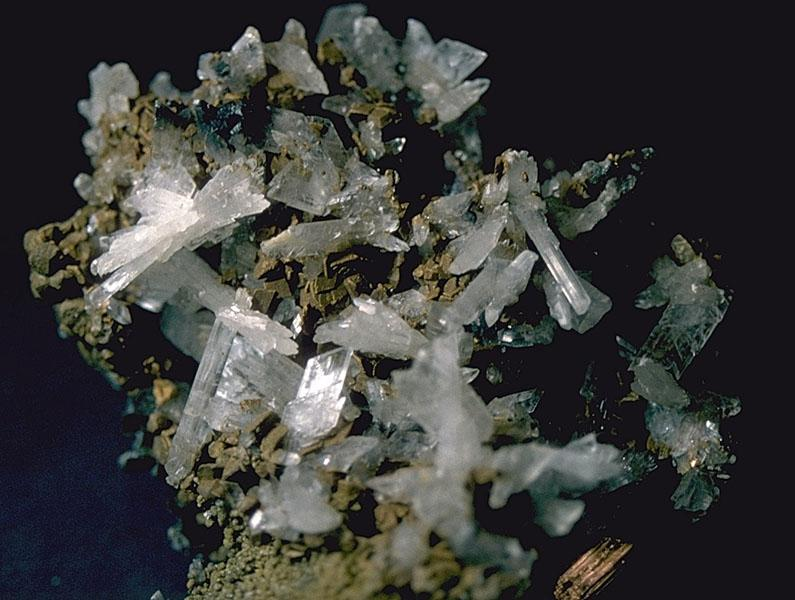gypsum: (86, 107, 624, 578), (621, 234, 743, 512), (347, 22, 488, 122), (221, 25, 267, 94), (197, 53, 212, 79)
